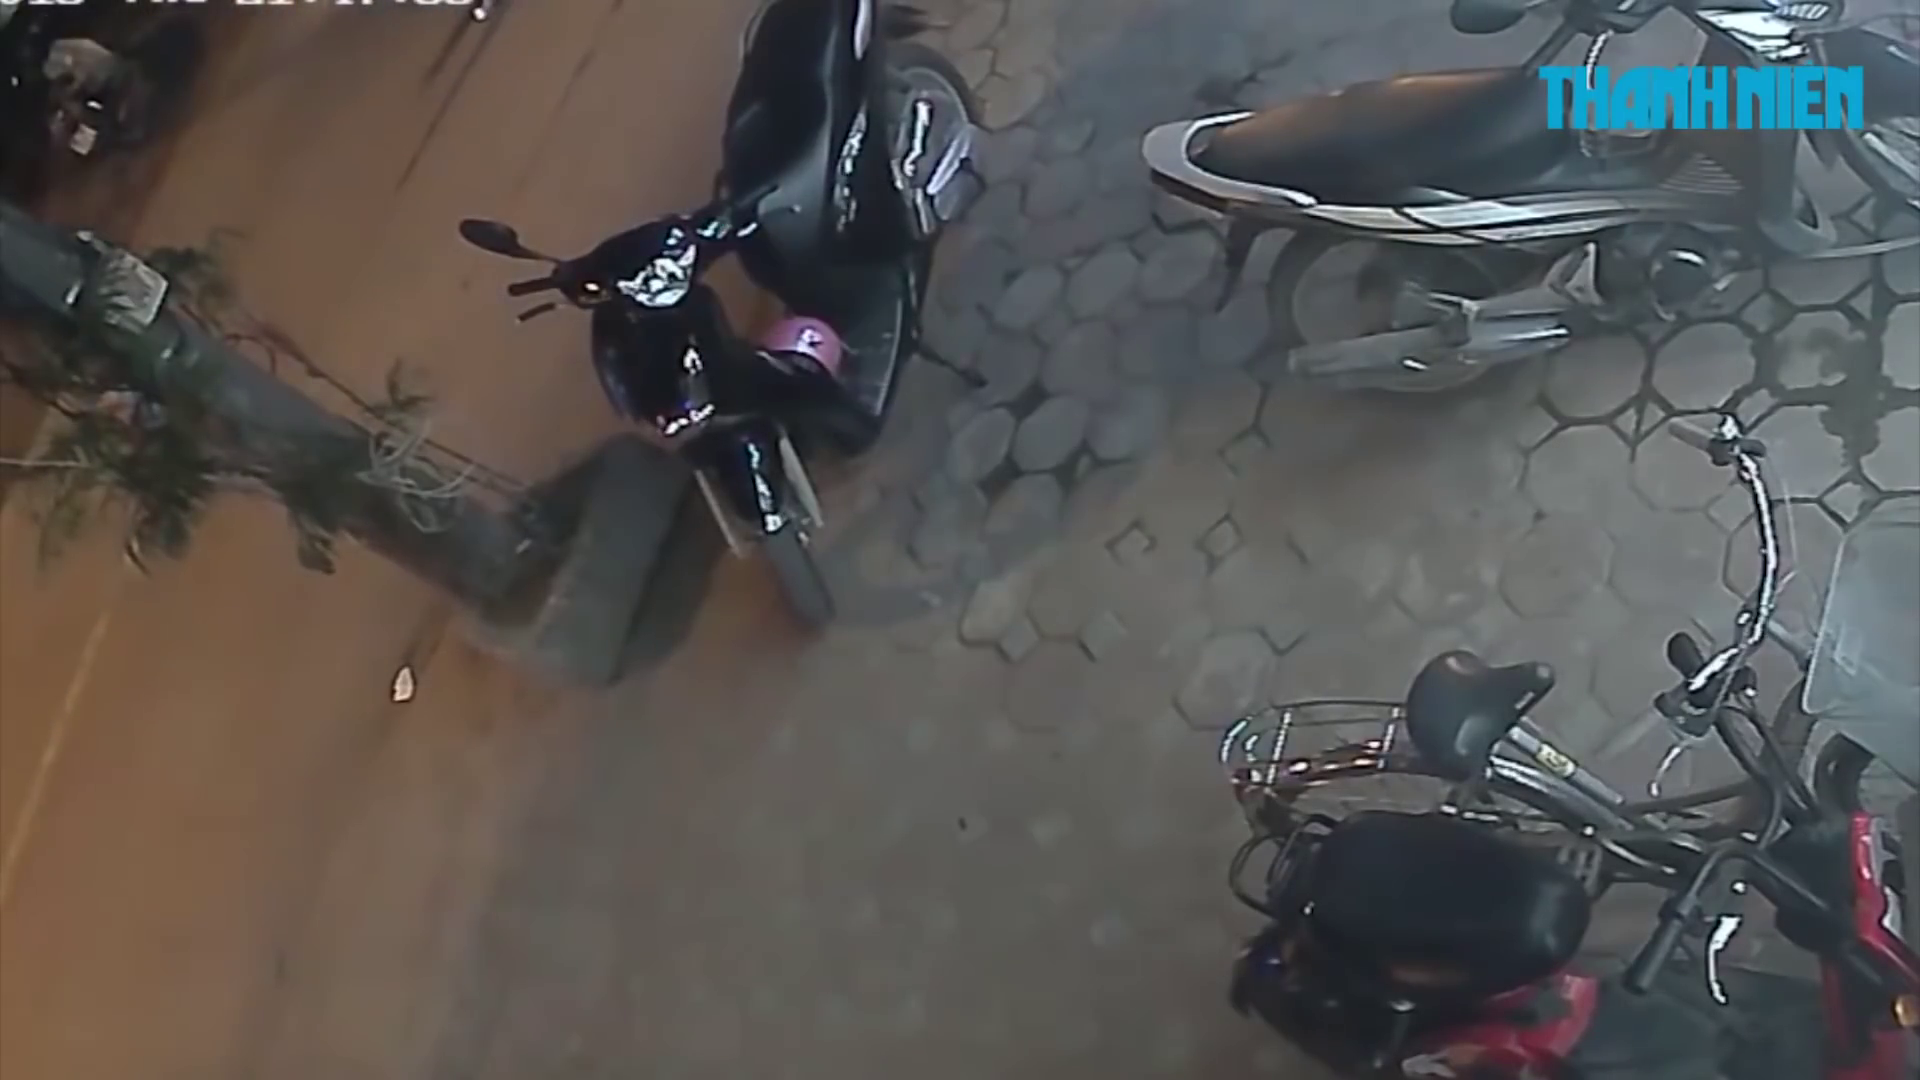Motorcycle: (1217, 396, 1917, 1062), (456, 3, 985, 633), (1141, 1, 1919, 397)
